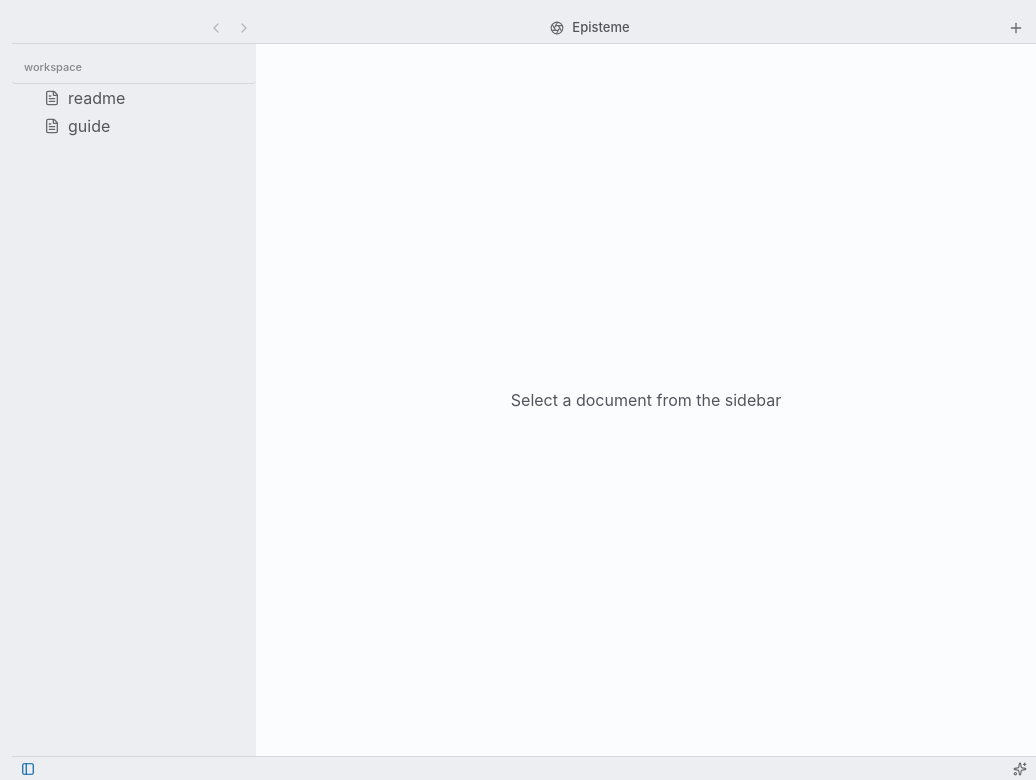
Test: Document viewer integration › file without frontmatter → no frontmatter bar
Click the list item "readme" at x=134, y=98, box [12,84,256,112]
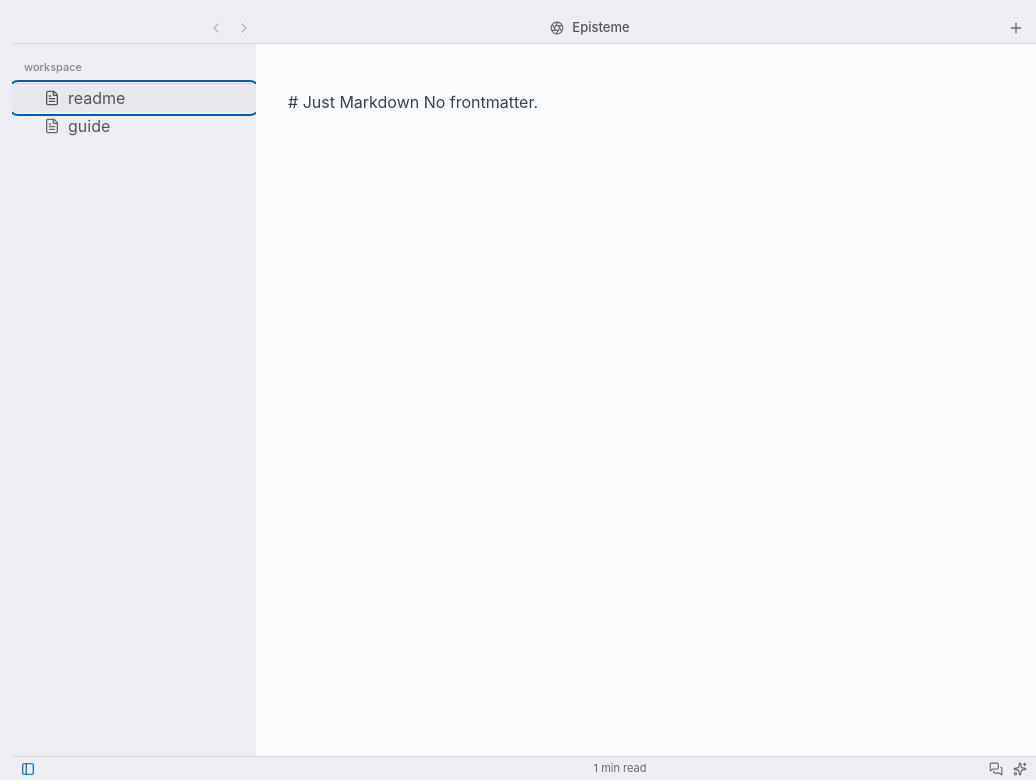
Check: the element showing "# Just Markdown No frontmatter." is shown, box [288,92,538,112]
